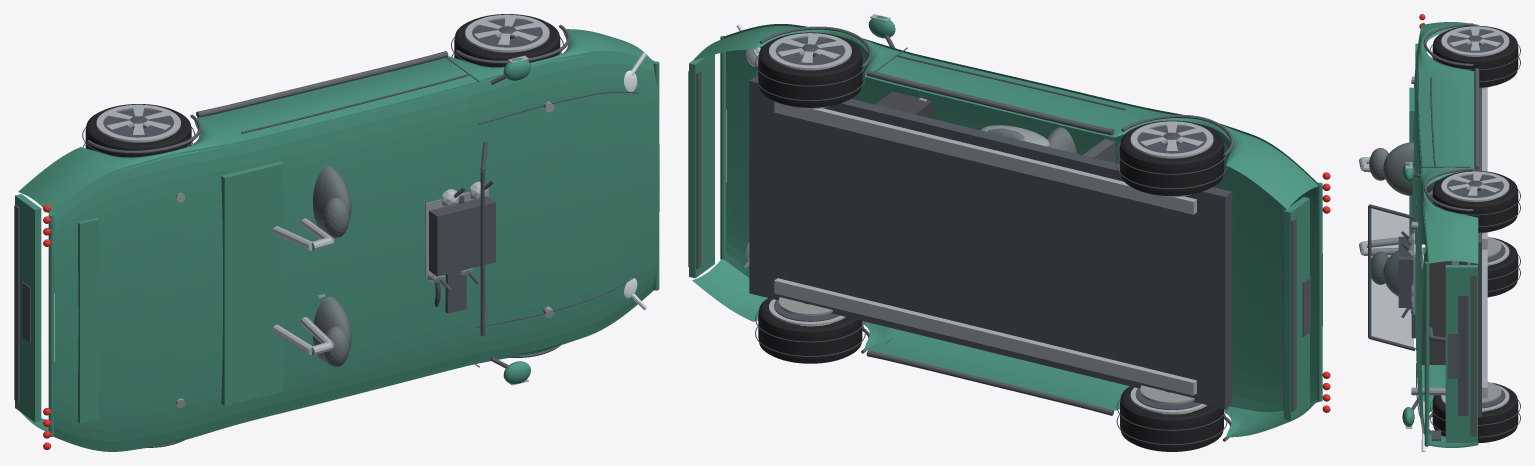
3 views of the same model, side by side, from view 1: azimuth 30°, elevation 25°; view 2: azimuth 150°, elevation 25°; view 3: azimuth 270°, elevation 25° (orthographic). The views are drawn at different scales.
Visible parts, largest first — view 1: body_paint, body_black, body_accent, body_seat, body_metal, wheel_rear_R_rubber, wheel_front_R_rubber, wheel_rear_R_metal, wheel_front_R_metal, wheel_rear_R_black, wheel_front_R_black, body_engine (+1 smaller); view 2: body_black, body_paint, body_metal, body_accent, wheel_front_R_rubber, wheel_rear_R_rubber, wheel_front_L_rubber, wheel_rear_L_rubber, wheel_rear_R_metal, wheel_front_R_metal, wheel_front_R_black, wheel_rear_R_black (+4 smaller); view 3: body_paint, body_black, body_windshield, body_accent, body_seat, body_metal, wheel_front_R_rubber, wheel_rear_R_rubber, body_dash, wheel_front_L_rubber, wheel_rear_R_metal, wheel_front_R_metal (+10 smaller).
Boxes of the visible parts, box(x1,y1,x2,y2) form: body_paint: box(15, 29, 659, 451); body_black: box(241, 57, 637, 368); body_accent: box(14, 24, 570, 447); body_seat: box(313, 166, 351, 367); body_metal: box(272, 55, 528, 385); wheel_rear_R_rubber: box(85, 104, 191, 157); wheel_front_R_rubber: box(454, 14, 560, 67); wheel_rear_R_metal: box(96, 104, 180, 142); wheel_front_R_metal: box(465, 14, 549, 52); wheel_rear_R_black: box(82, 109, 194, 156); wheel_front_R_black: box(451, 19, 563, 66); body_engine: box(176, 101, 553, 407); body_black: box(749, 34, 1232, 409); body_paint: box(689, 16, 1322, 437); body_metal: box(774, 14, 1196, 395); body_accent: box(688, 26, 1310, 441); wheel_front_R_rubber: box(758, 32, 862, 107); wheel_rear_R_rubber: box(1120, 120, 1223, 195); wheel_front_L_rubber: box(758, 298, 862, 363); wheel_rear_L_rubber: box(1120, 386, 1223, 451); wheel_rear_R_metal: box(1130, 121, 1213, 158); wheel_front_R_metal: box(769, 33, 851, 69); wheel_front_R_black: box(755, 37, 865, 101); wheel_rear_R_black: box(1116, 126, 1227, 189); body_paint: box(1402, 22, 1478, 447); body_black: box(1368, 76, 1481, 440); body_windshield: box(1371, 208, 1413, 347); body_accent: box(1423, 23, 1479, 436); body_seat: box(1369, 142, 1439, 296); body_metal: box(1359, 87, 1487, 428); wheel_front_R_rubber: box(1432, 170, 1518, 232); wheel_rear_R_rubber: box(1432, 25, 1518, 87); body_dash: box(1411, 194, 1467, 364); wheel_front_L_rubber: box(1432, 382, 1518, 443); wheel_rear_R_metal: box(1441, 26, 1509, 56); wheel_front_R_metal: box(1441, 171, 1509, 201).
Bounding box in the file's own units: 4.24 × 2.11 × 1.18.
